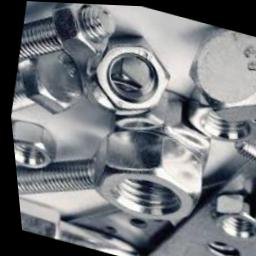Non-corroded Nut: (88, 127, 197, 221), (92, 31, 167, 110), (9, 119, 53, 168), (211, 190, 252, 239)
